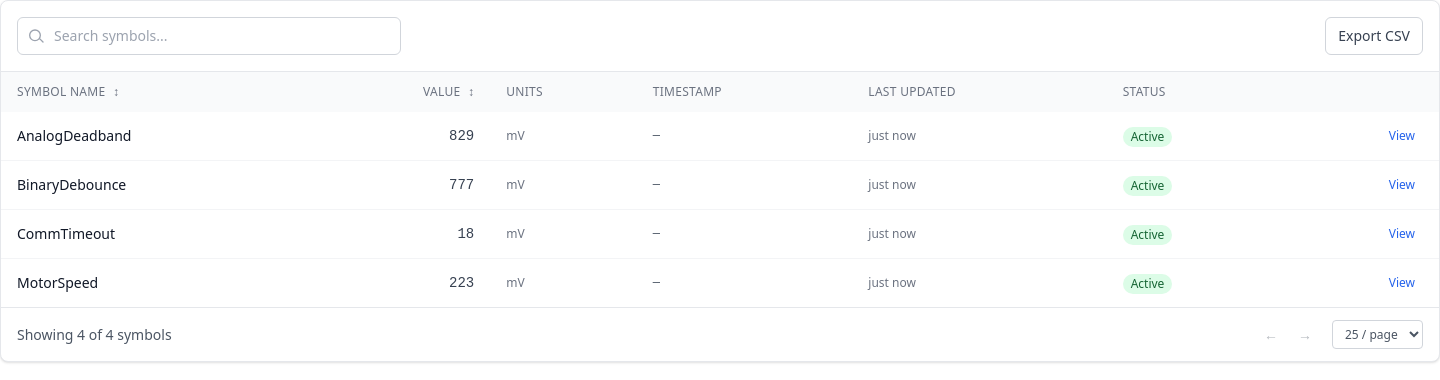
SymbolTable › shows empty state message when search matches nothing
In the search field named "Search symbols": (209, 36) [17, 17, 401, 55], type "zzz-no-match"
Wait 300 ms
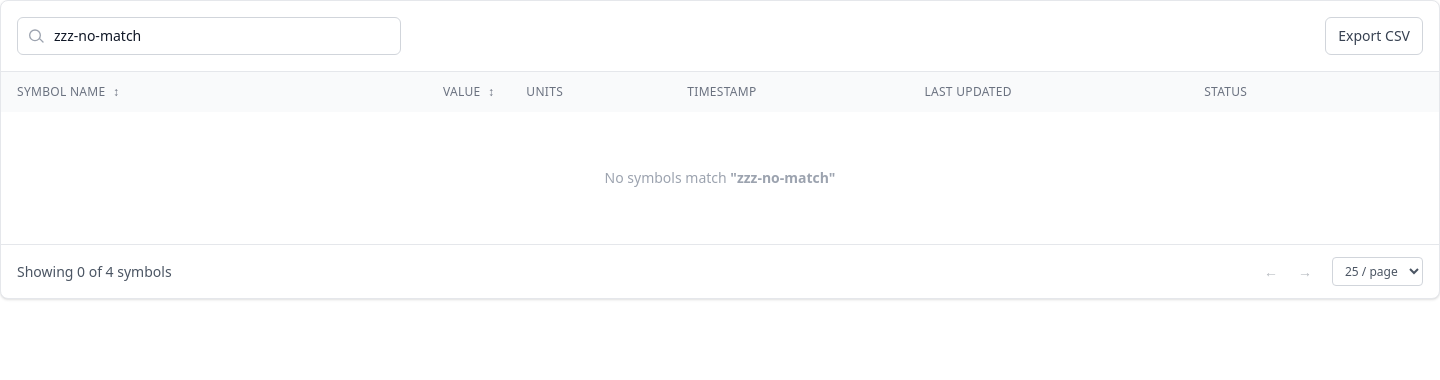
Now the text "No symbols match" is shown, box [605, 168, 730, 187]
